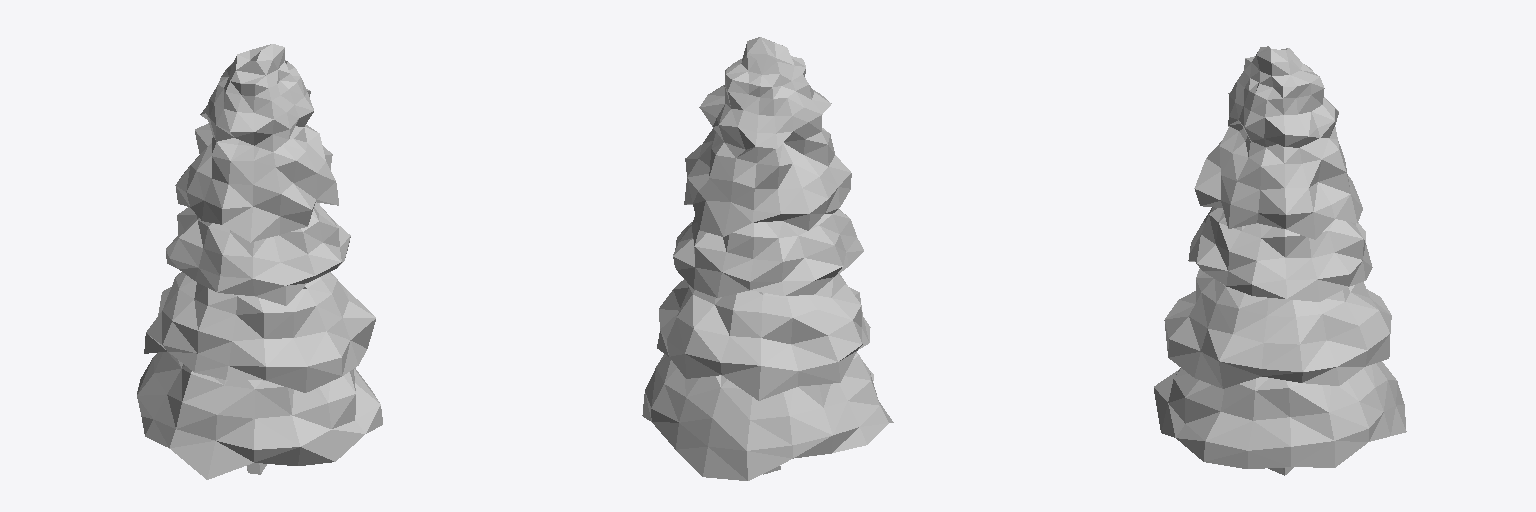
The model's file is _1_tree.obj.
The picture shows the model from 3 angles: view 1: azimuth 30°, elevation 25°; view 2: azimuth 150°, elevation 25°; view 3: azimuth 270°, elevation 25°; orthographic projection.
Parts seen in each view (by area): view 1: _1_tree_Cone.019; view 2: _1_tree_Cone.019; view 3: _1_tree_Cone.019.
Boxes of the visible parts, x1=… form: _1_tree_Cone.019: x1=137, y1=44, x2=382, y2=479; _1_tree_Cone.019: x1=642, y1=37, x2=893, y2=480; _1_tree_Cone.019: x1=1154, y1=46, x2=1406, y2=475.
Size of the model in its own units: 0.7483 by 1.45 by 0.7799.